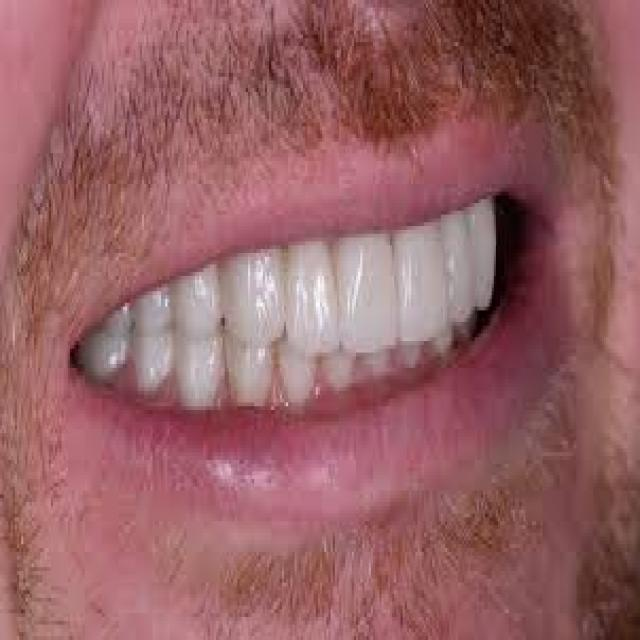tooth: (225, 230, 286, 353), (337, 242, 398, 361), (286, 234, 337, 364), (396, 230, 452, 345), (441, 207, 477, 337), (173, 326, 224, 410), (229, 322, 273, 406), (176, 261, 222, 337), (278, 333, 322, 402), (328, 330, 354, 387)
